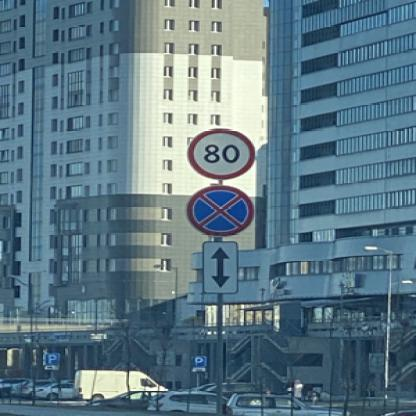speedlimit: (183, 127, 252, 177)
